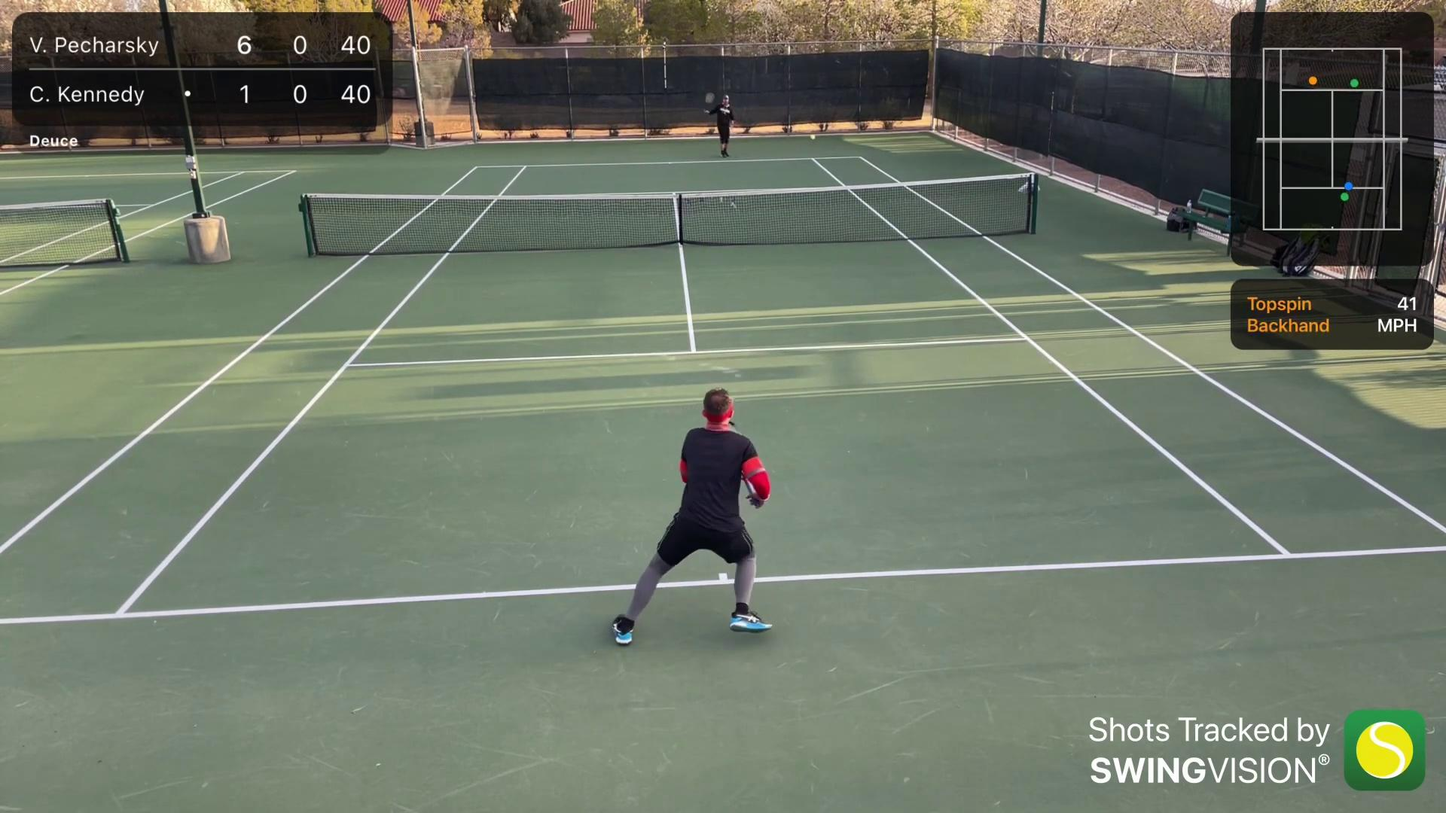ball: (811, 134, 818, 141)
